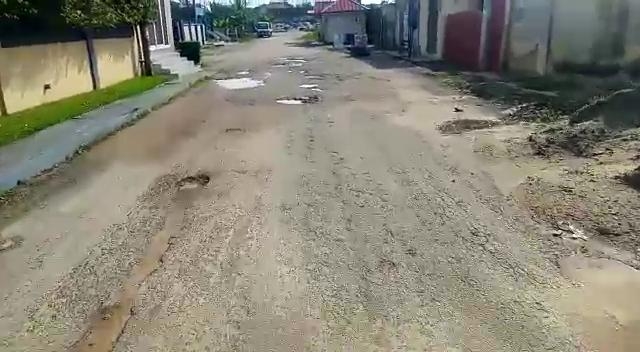pothole: (214, 76, 265, 88), (174, 173, 210, 188), (274, 97, 310, 105), (302, 83, 323, 89)
